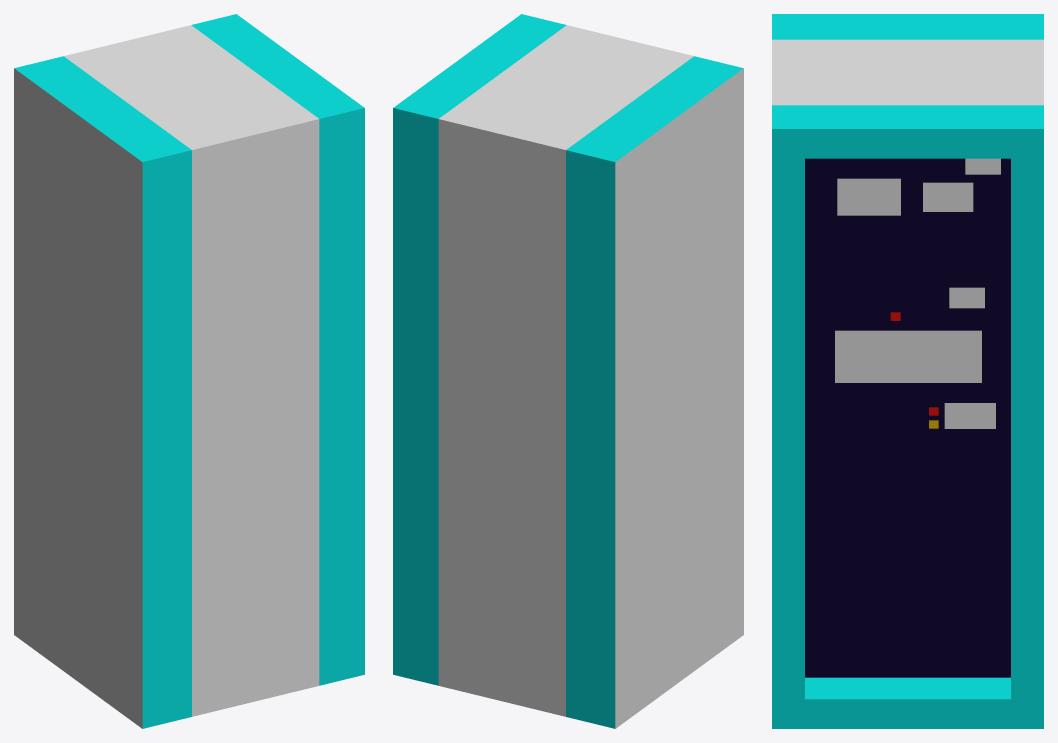
File: fireBroadcast.fbx
3 renders of one model, left to right at view 1: azimuth 30°, elevation 25°; view 2: azimuth 150°, elevation 25°; view 3: azimuth 270°, elevation 25°, orthographic. The views are drawn at different scales.
Visible parts, largest first — view 1: fireBroadcast; view 2: fireBroadcast; view 3: fireBroadcast.
Part boxes in pixels (x1=…): fireBroadcast: x1=14, y1=14, x2=364, y2=728; fireBroadcast: x1=393, y1=14, x2=743, y2=728; fireBroadcast: x1=772, y1=14, x2=1043, y2=728.
Bounding box in the file's own units: 10.65 × 25.94 × 10.65.
